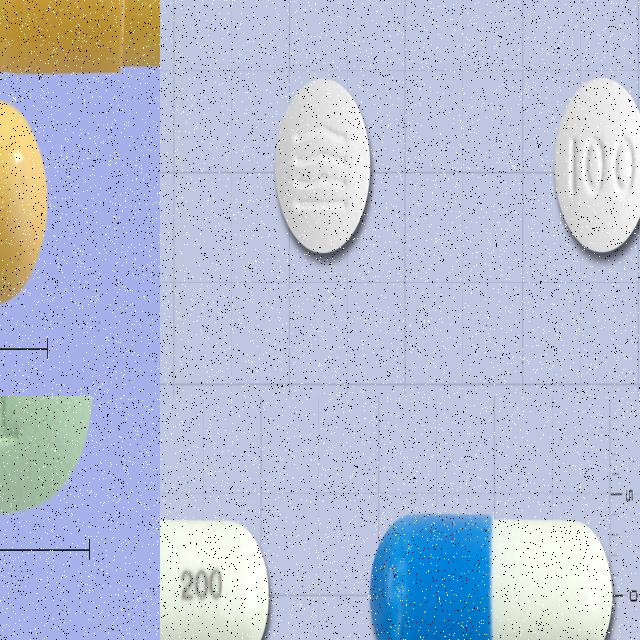Genvoya: (0, 396, 94, 520)
Levotra: (275, 76, 372, 254), (554, 75, 640, 253)
Viread Tab: (370, 511, 614, 640), (160, 510, 270, 640)
